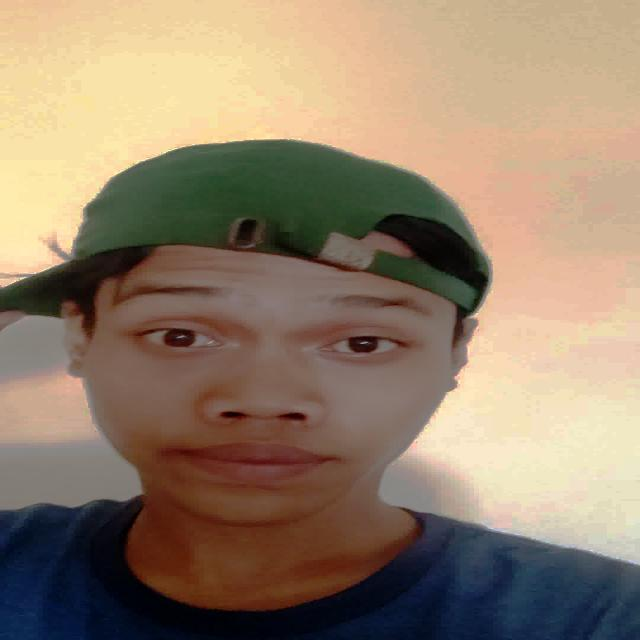TOPI: (2, 129, 508, 322)
